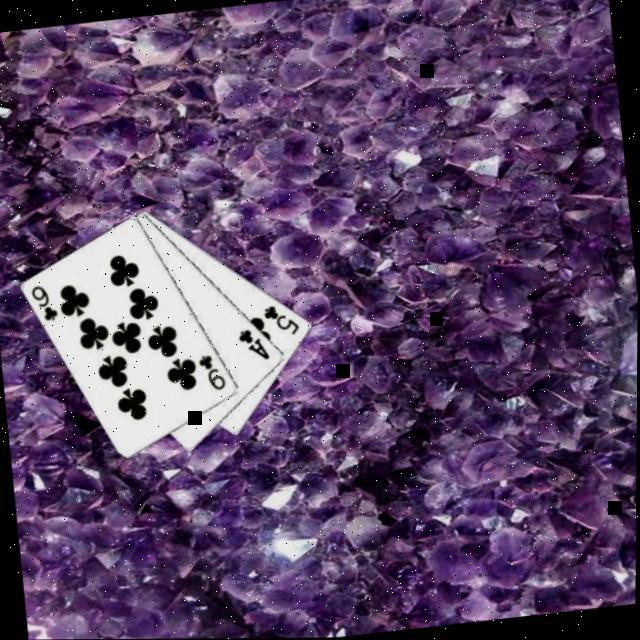5C: (258, 301, 302, 343)
9C: (193, 352, 228, 397), (26, 282, 60, 326)
AC: (233, 326, 271, 367)
